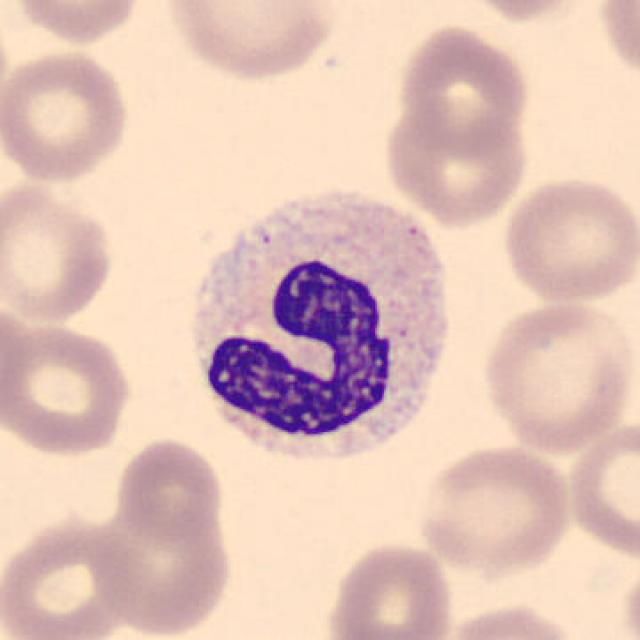Neutrophil: (174, 182, 464, 483)
RBC: (474, 294, 636, 456), (412, 441, 576, 576), (92, 495, 236, 640), (381, 99, 532, 229), (2, 316, 137, 460), (395, 20, 535, 156), (0, 44, 135, 185), (498, 173, 638, 305), (0, 176, 119, 326), (0, 515, 140, 640), (156, 0, 340, 83), (320, 537, 458, 640), (110, 434, 228, 543), (562, 416, 638, 564), (7, 0, 148, 48), (441, 599, 581, 640), (594, 0, 640, 86), (457, 0, 592, 25)
